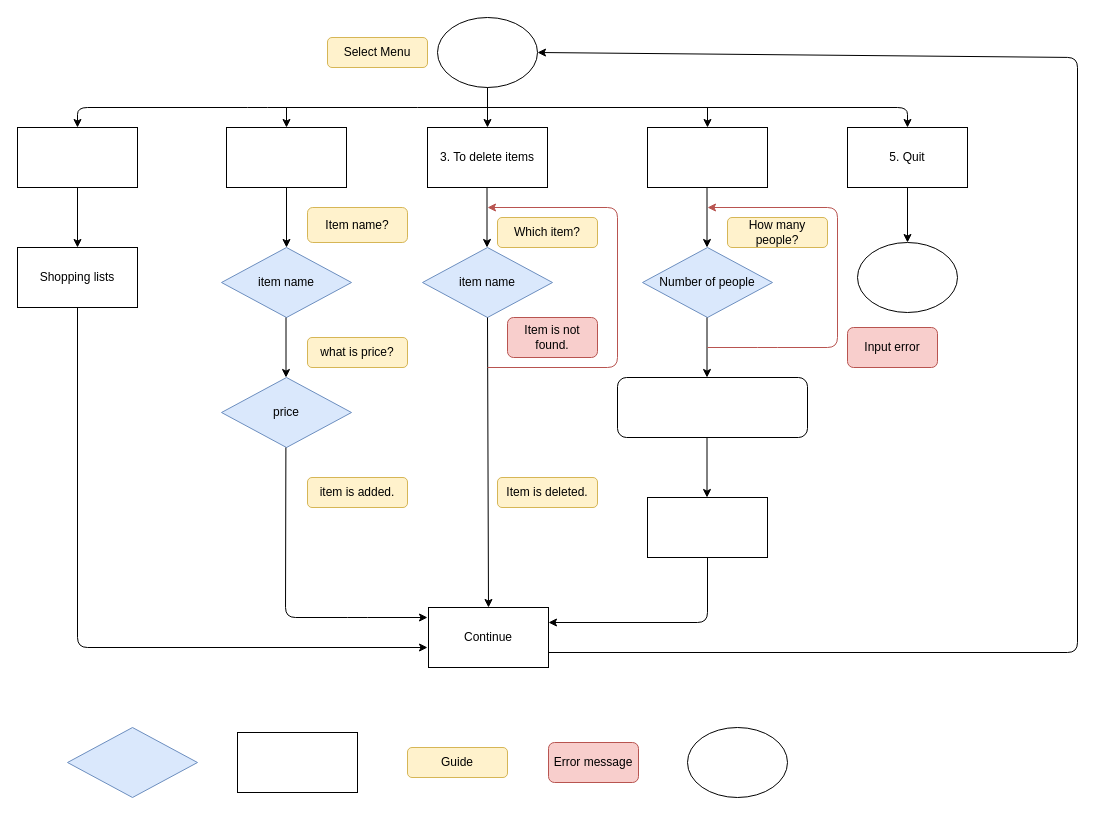
Image size: 1103x815. Some labels were removed from this diagram. Each missing label, with the centre of its shape:
"1. To show the list" goes at (77,157).
"2. To add items" goes at (286,157).
"4, To split the total price" goes at (707,157).
"END" goes at (907,277).
"One person Remainder" goes at (707,527).
"SCREEN" goes at (297,762).
"START END" goes at (737,762).
"START MENU" goes at (487,52).
"Total price / Number of people Total price % Number of people" goes at (712,407).
"USER ACTION" goes at (132,762).
